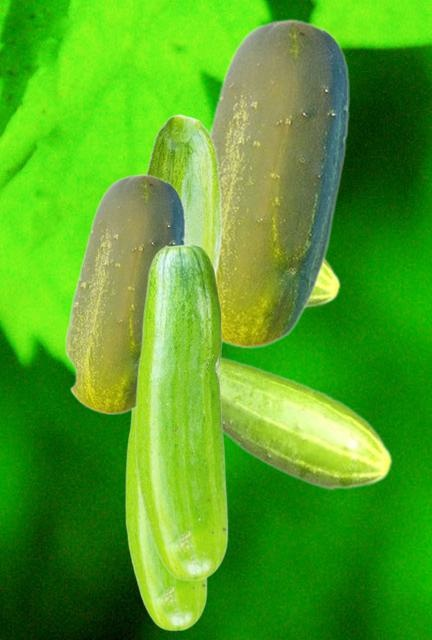cucumber: (207, 18, 348, 348), (135, 243, 227, 580), (64, 173, 184, 414), (220, 356, 392, 490), (125, 410, 206, 630), (146, 114, 221, 279), (307, 259, 340, 308)
